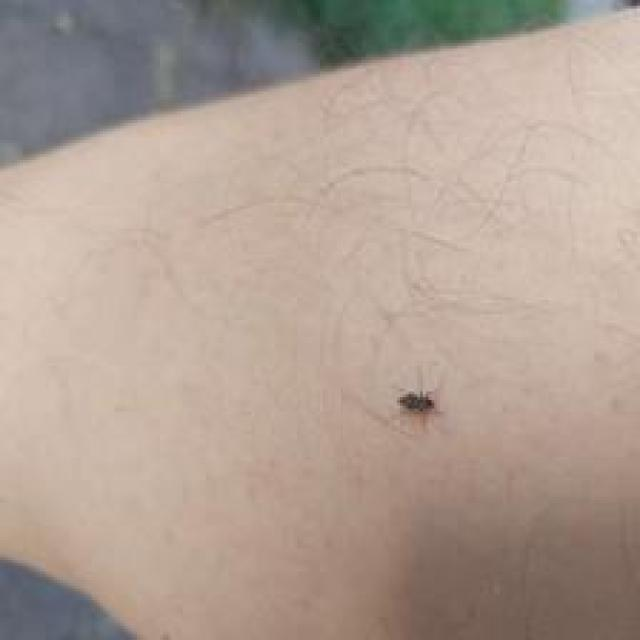Aedes albopictus: (396, 389, 436, 414)
